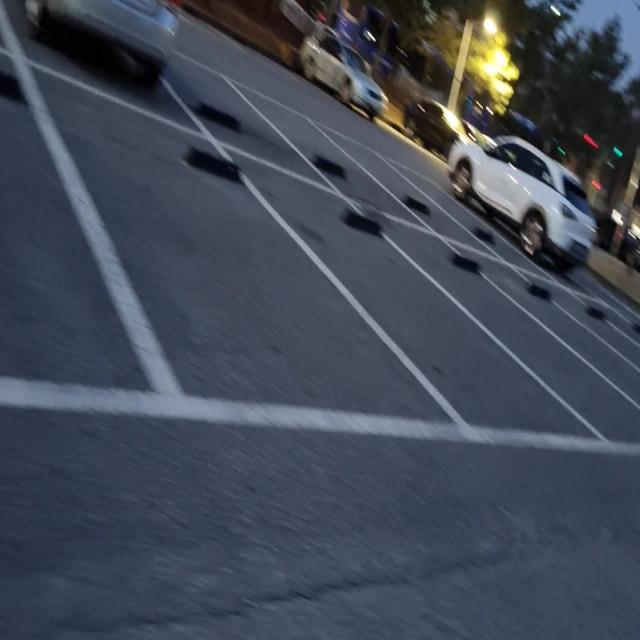empty: (2, 40, 472, 448), (198, 132, 607, 460), (345, 184, 640, 462), (440, 230, 640, 416)
